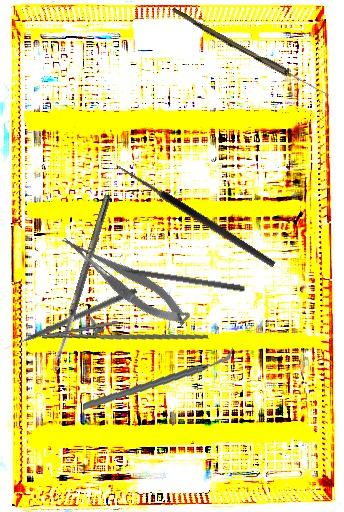Chopper: (82, 334, 234, 424)
Hook Surgical: (108, 161, 277, 277)
Micro Scissor: (57, 219, 194, 339)
Needle Holder: (40, 301, 209, 360)
Pusher: (2, 286, 138, 352), (101, 261, 246, 293)
Surgical Spoon: (169, 7, 332, 99), (50, 193, 112, 371)
